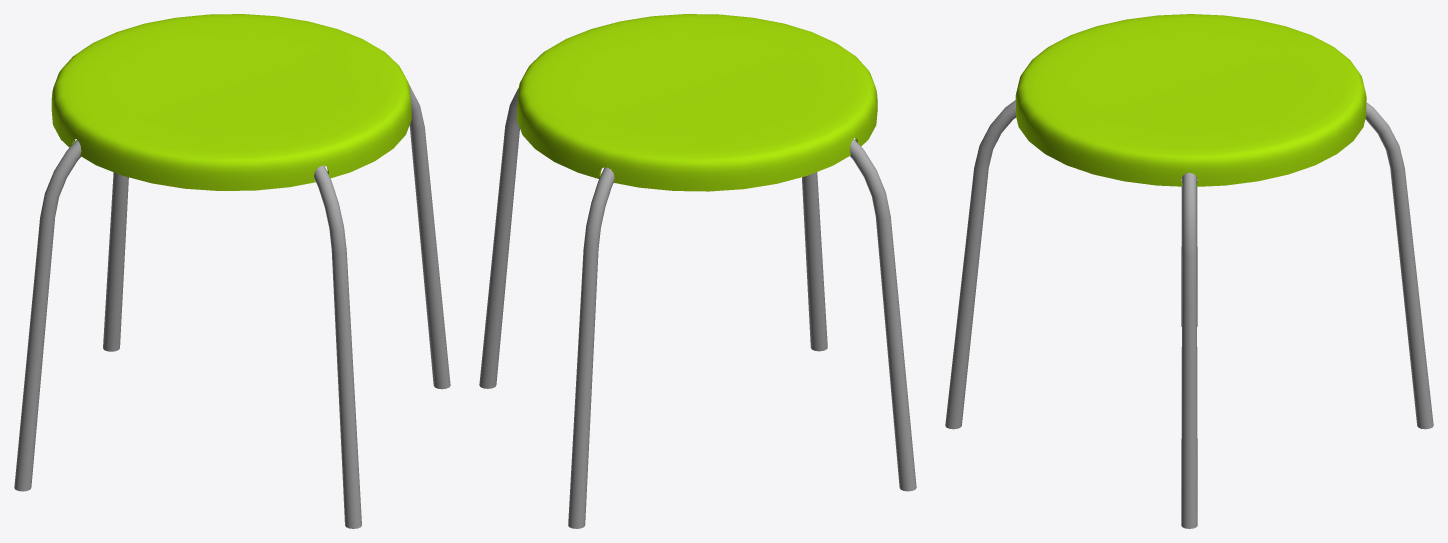
File: IKEA-Forsby_Small_Stool-3D.FBX
3 views of the same model, side by side, from view 1: azimuth 30°, elevation 25°; view 2: azimuth 150°, elevation 25°; view 3: azimuth 270°, elevation 25° (orthographic). The views are drawn at different scales.
Visible parts, largest first — view 1: Loft01; view 2: Loft01; view 3: Loft01.
Boxes of the visible parts, bbox=[...] form: Loft01: bbox=[14, 14, 450, 528]; Loft01: bbox=[479, 14, 916, 528]; Loft01: bbox=[945, 14, 1433, 528].
Size of the model in its own units: 0.5635 by 0.4359 by 0.5635.
